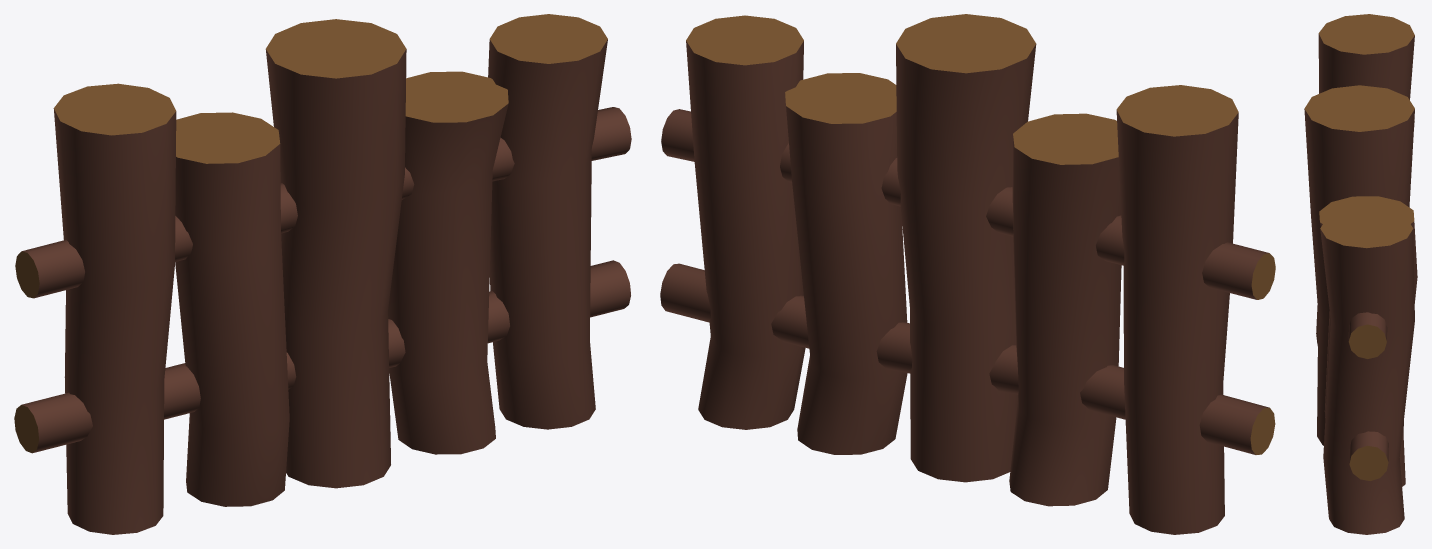
File: WoodStackFence_Single3.fbx
3 renders of one model, left to right at view 1: azimuth 30°, elevation 25°; view 2: azimuth 150°, elevation 25°; view 3: azimuth 270°, elevation 25°, orthographic. The views are drawn at different scales.
Visible parts, largest first — view 1: WoodStackFence_Single3; view 2: WoodStackFence_Single3; view 3: WoodStackFence_Single3.
Part boxes in pixels (box(x1,y1,x2,y2)): WoodStackFence_Single3: box(14, 14, 631, 534); WoodStackFence_Single3: box(660, 14, 1275, 534); WoodStackFence_Single3: box(1304, 14, 1417, 534).
Bounding box in the file's own units: 302 × 203 × 63.55.
